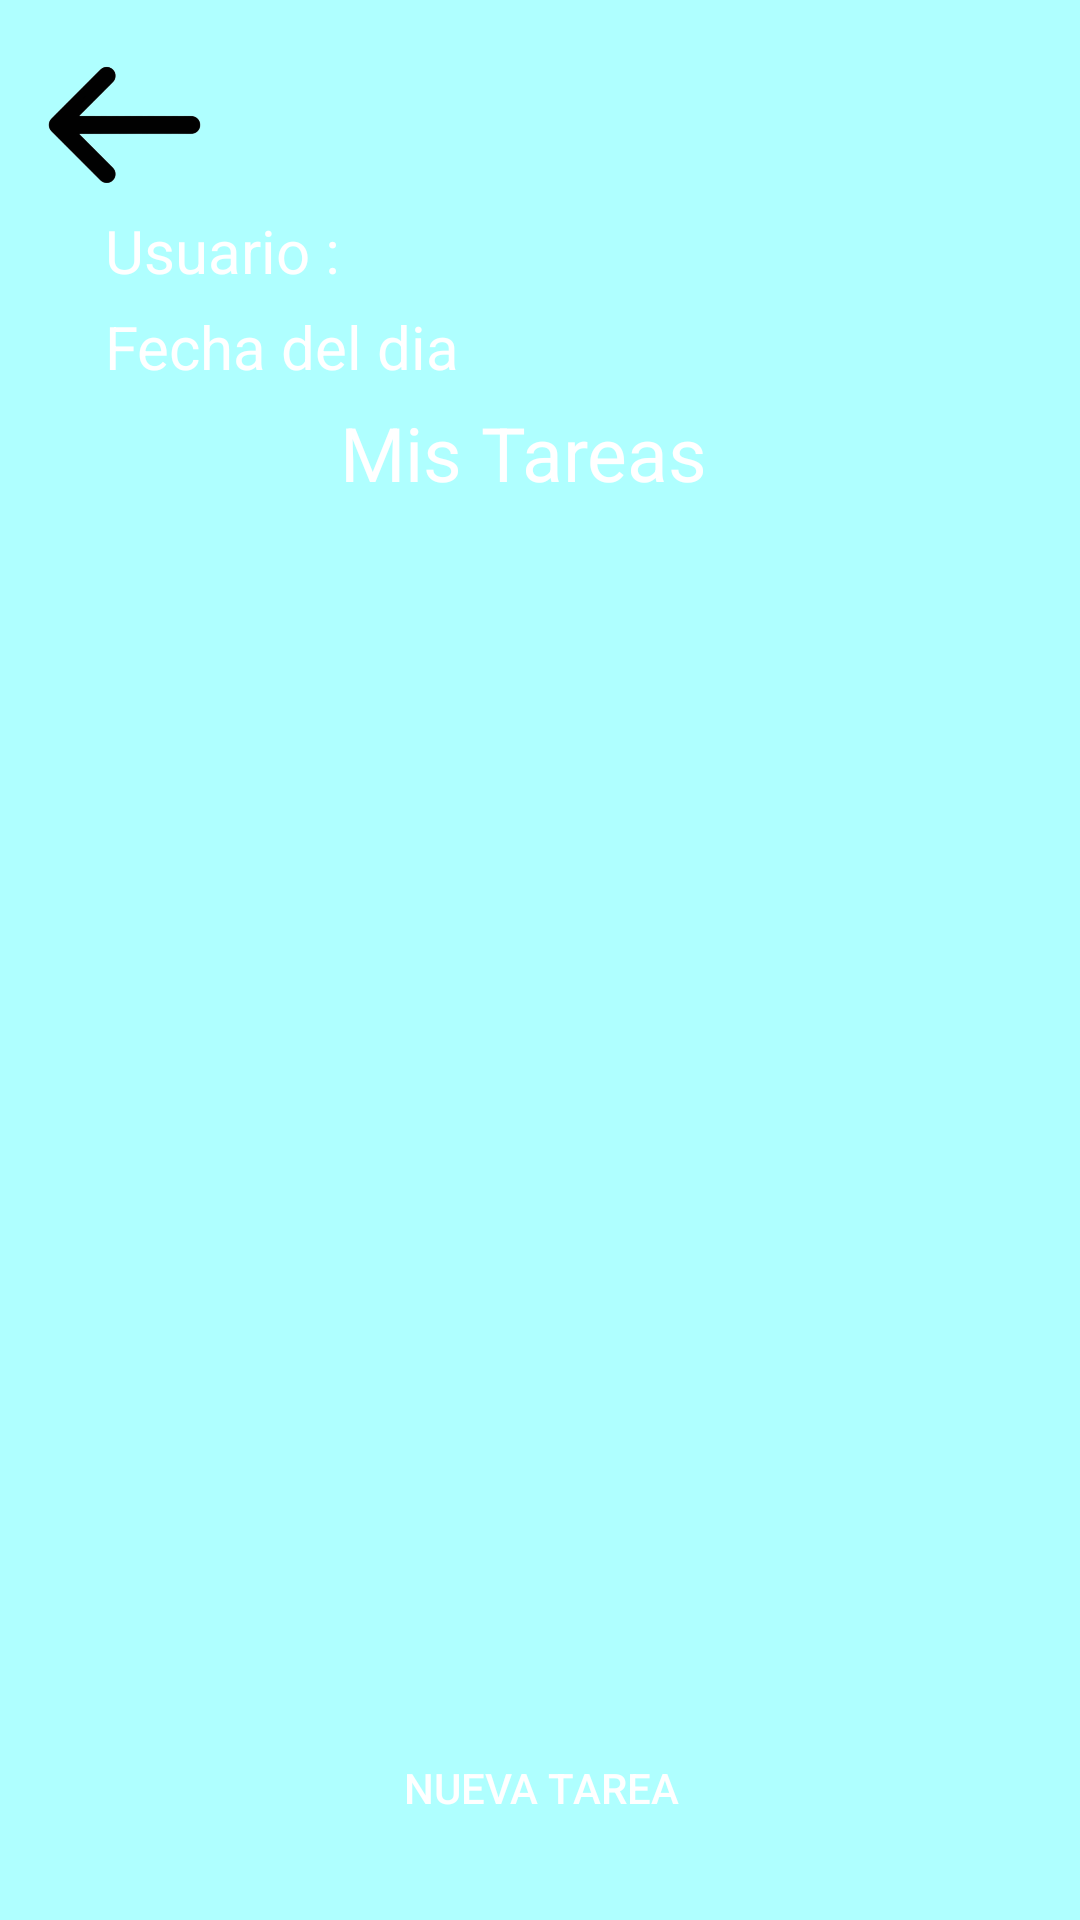

Locate icon controls on the screen. Image size 1080w x 1920h, boxes as bbox=[x1, y1, x2, y2].
Cancelar: bbox=[48, 67, 201, 183]
